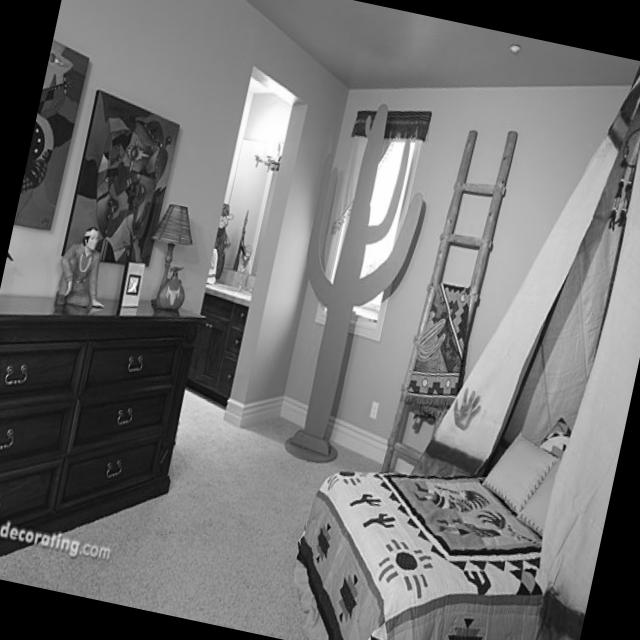2001: (314, 111, 428, 338)
bed -occluded-: (294, 64, 640, 640)
ceiling beam: (249, 0, 640, 87)
chest of drawers occluded: (0, 293, 195, 553)
cushion occluded: (481, 429, 557, 515)
decoration -X: (287, 102, 424, 458)
door bars: (177, 65, 306, 424)
floor -X: (0, 382, 591, 640)
furniture toy: (186, 273, 249, 399)
lamp crop: (149, 202, 190, 304), (505, 40, 520, 55)
picture crop: (62, 86, 179, 266)
picture frame: (14, 39, 88, 227)
sculpture -X: (51, 225, 103, 305)
wall clock: (284, 82, 640, 568), (0, 0, 349, 491), (211, 82, 289, 291)
